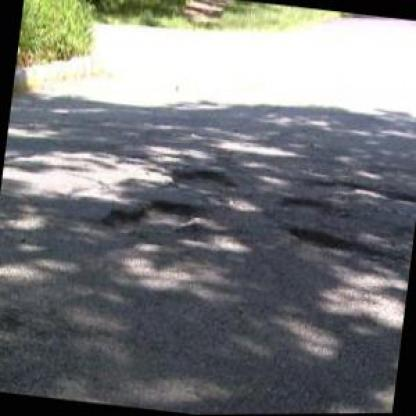pothole: (101, 188, 202, 242), (284, 223, 354, 257), (168, 164, 237, 191)
